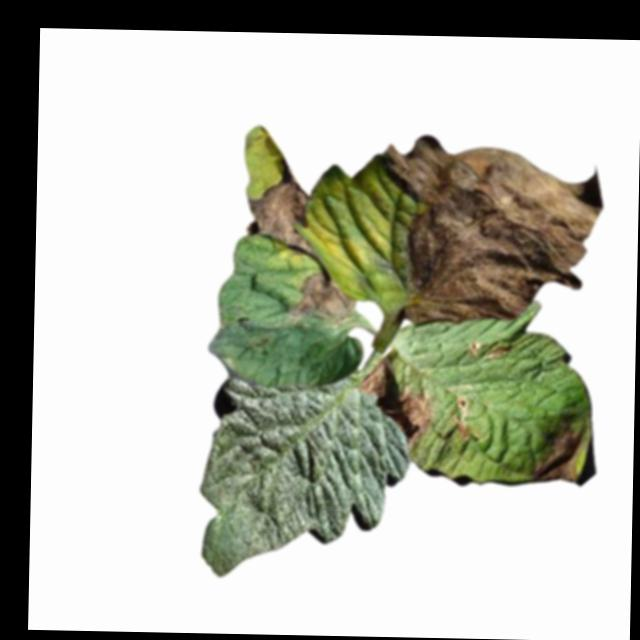Late_blight: (373, 133, 603, 329), (245, 162, 319, 258), (361, 358, 433, 449), (289, 268, 364, 324), (533, 420, 591, 484), (467, 338, 515, 364), (453, 396, 475, 445)
